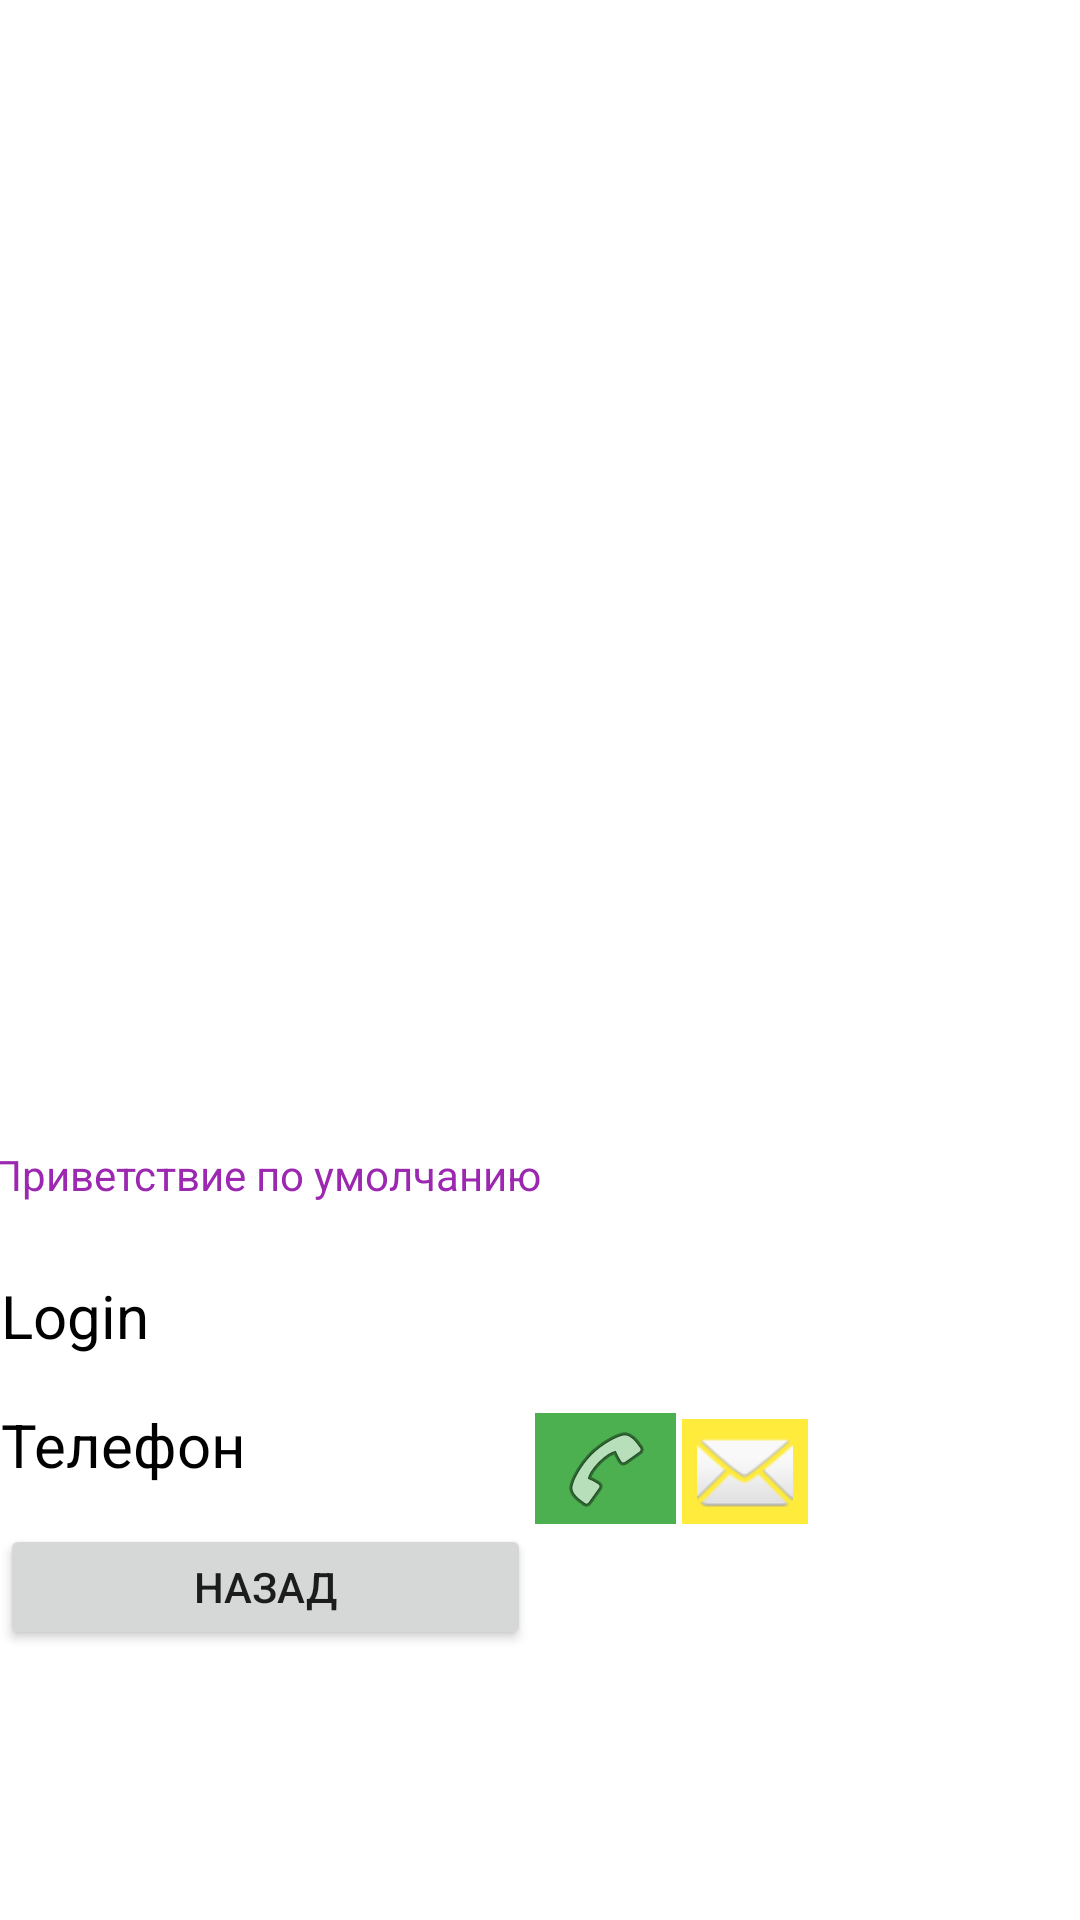

Icon click points for this 1080w x 1920h phone screenshot, format point (x, y):
call: point (605, 1468)
email: point (745, 1471)
